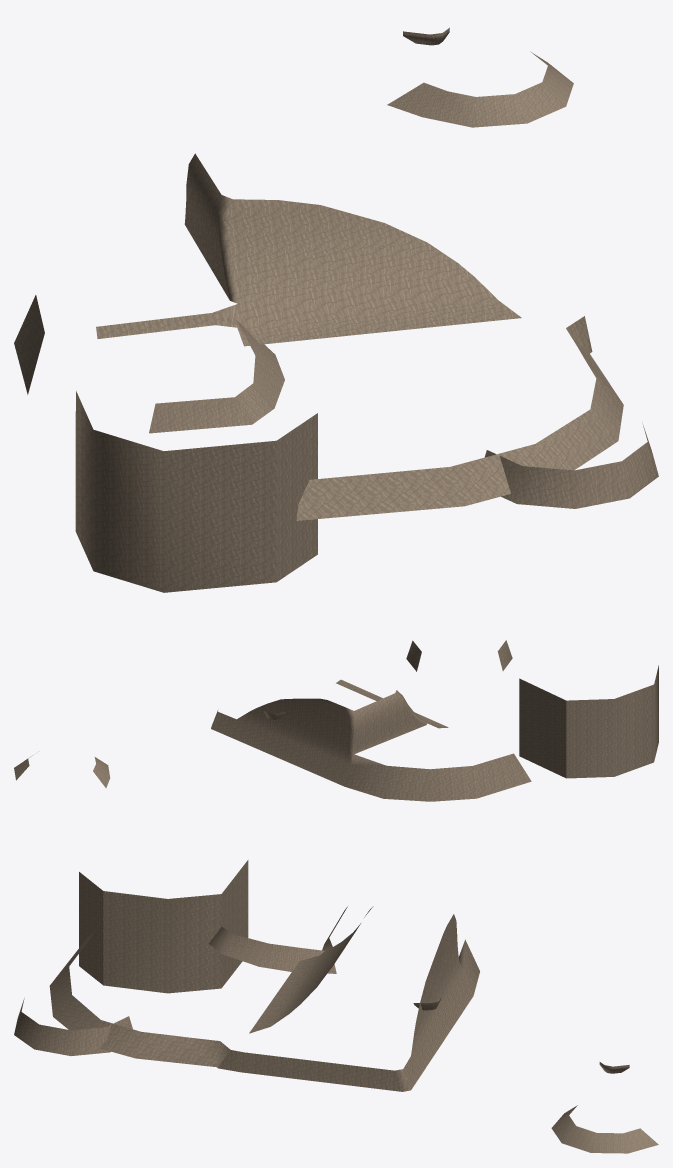
File: kd_stage_136599_16_3_bounded.glb
3 renders of one model, top to bottom at view 1: azimuth 30°, elevation 25°; view 2: azimuth 150°, elevation 25°; view 3: azimuth 270°, elevation 25°, orthographic. The views are drawn at different scales.
Parts seen in each view (by area): view 1: kd_stage_136599_16_3_bounded; view 2: kd_stage_136599_16_3_bounded; view 3: kd_stage_136599_16_3_bounded.
Boxes of the visible parts, x1=… form: kd_stage_136599_16_3_bounded: x1=14, y1=27, x2=658, y2=592; kd_stage_136599_16_3_bounded: x1=14, y1=640, x2=658, y2=801; kd_stage_136599_16_3_bounded: x1=14, y1=860, x2=658, y2=1153.
Size of the model in its own units: 449 by 96.61 by 464.
Materials: 1 (1 with a texture image).
